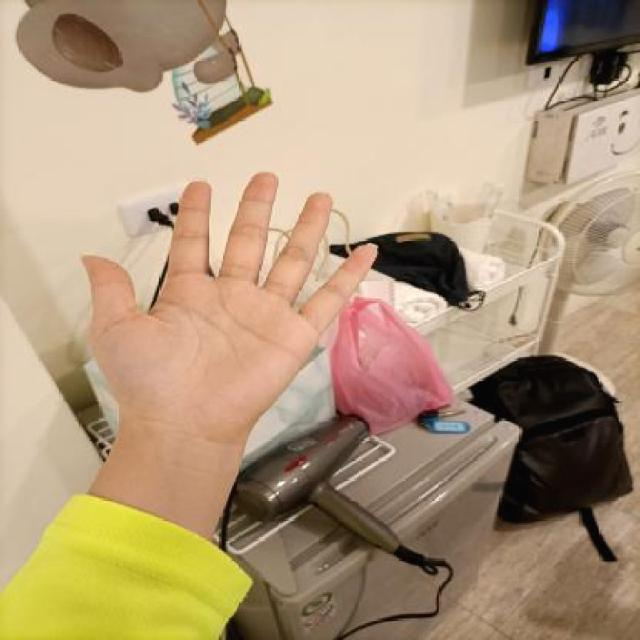no_glove: (71, 158, 383, 460)
